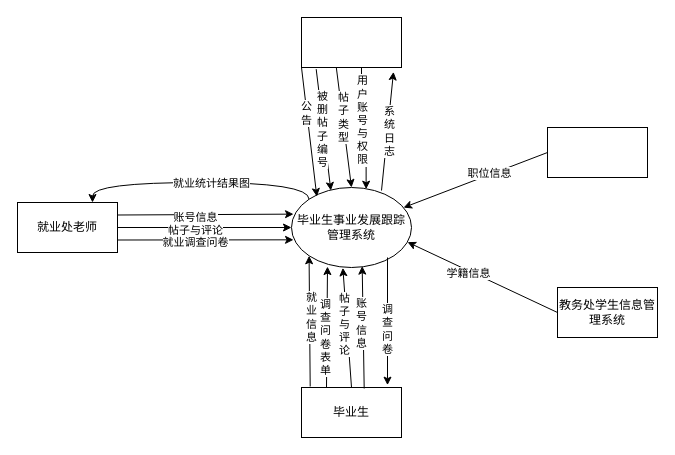
The diagram is 675 pixels wide and 455 high, and some of its shapes have lost their labels. Here are the shapes that lost their labels. From the top down, the centre of each, then its label:
(x=351, y=42): 管理员
(x=597, y=152): 外部求职网站
